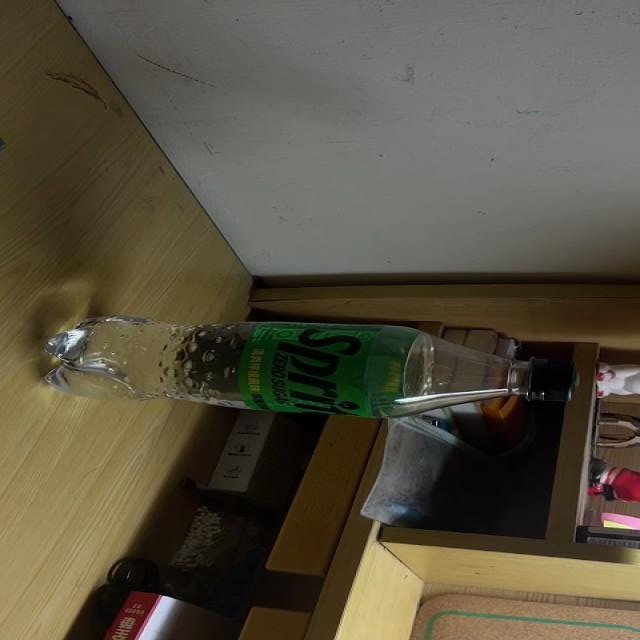Sprite: (38, 316, 582, 418)
